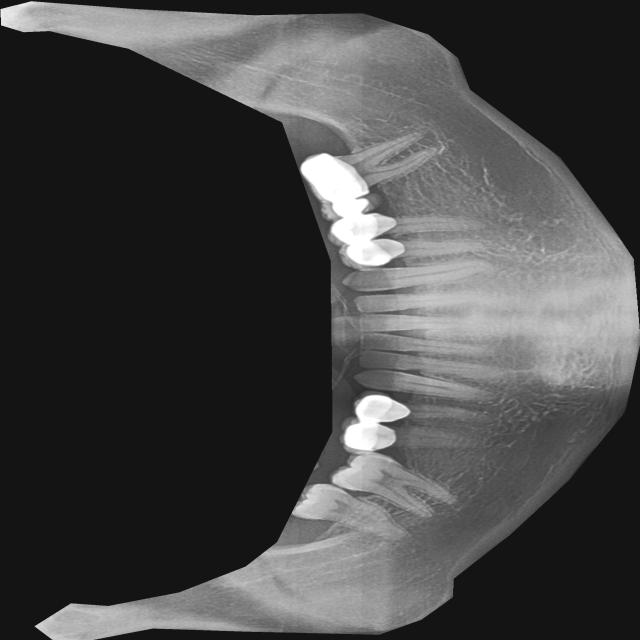mandibula: (0, 0, 640, 640)
